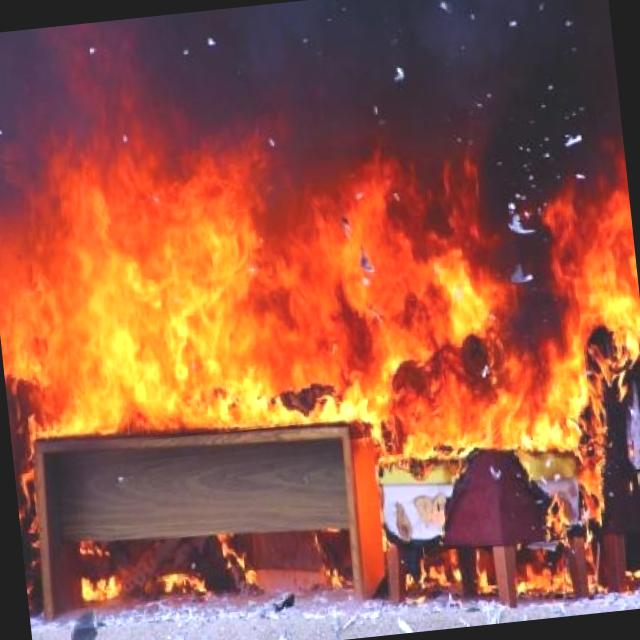fire: (0, 143, 640, 546)
